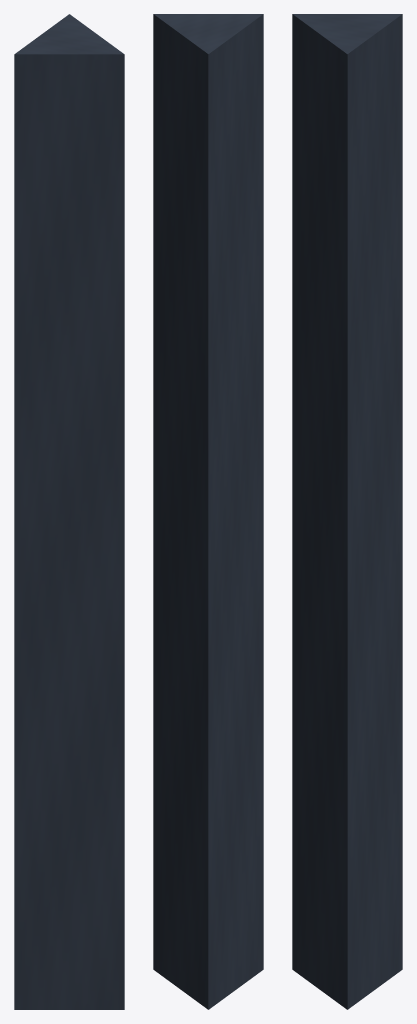
Rendered from atlas100-s027-a05.lod2.glb.
3 views of the same model, side by side, from view 1: azimuth 90°, elevation 25°; view 2: azimuth 150°, elevation 25°; view 3: azimuth 270°, elevation 25° (orthographic).
Parts seen in each view (by area): view 1: atlas100-s027-a05:part-000; view 2: atlas100-s027-a05:part-000; view 3: atlas100-s027-a05:part-000.
Part boxes in pixels (x1,y1,x2,y2): atlas100-s027-a05:part-000: (14, 14, 124, 1009); atlas100-s027-a05:part-000: (153, 14, 263, 1009); atlas100-s027-a05:part-000: (292, 14, 402, 1009).
Bounding box in the file's own units: 0.0573 × 0.6334 × 0.0662.
Materials: 1 (1 with a texture image).
